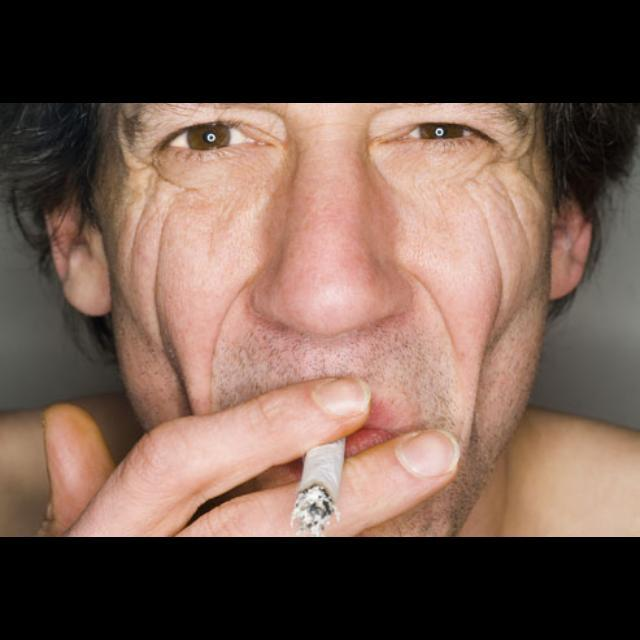rokok: (290, 417, 344, 528)
